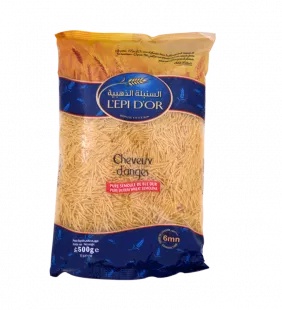L'EPI D'OR: (44, 20, 221, 291)
